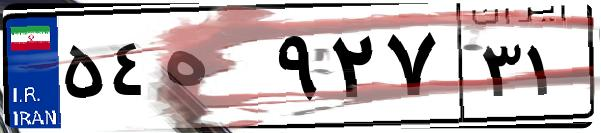1: (525, 38, 570, 115)
2: (330, 28, 385, 110)
3: (475, 38, 525, 113)
4: (110, 28, 158, 98)
5: (57, 26, 110, 100)
7: (385, 28, 445, 110)
9: (270, 28, 330, 110)
ه: (158, 20, 270, 120)
